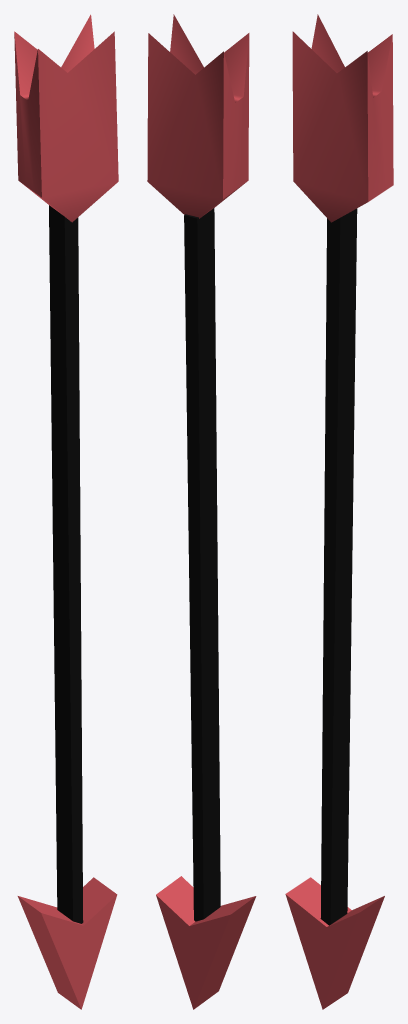
Rendered from arrow.fbx.
3 renders of one model, left to right at view 1: azimuth 30°, elevation 25°; view 2: azimuth 150°, elevation 25°; view 3: azimuth 330°, elevation 25°, orthographic.
Visible parts, largest first — view 1: Shape005, Shape006, Shape007; view 2: Shape005, Shape006, Shape007; view 3: Shape005, Shape006, Shape007.
Part boxes in pixels (x1,y1,x2,y2): Shape005: (49,205,83,923); Shape006: (14,14,118,222); Shape007: (17,877,117,1009); Shape005: (184,208,220,921); Shape006: (147,14,249,218); Shape007: (156,876,256,1009); Shape005: (320,208,357,925); Shape006: (292,14,393,222); Shape007: (285,877,384,1009).
Size of the model in its own units: 67.07 by 763 by 44.57.
